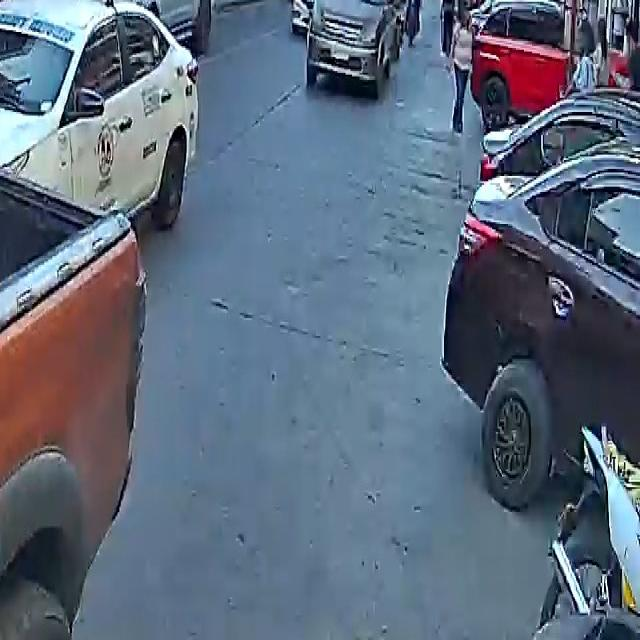car: (0, 0, 175, 638), (436, 138, 640, 522), (0, 0, 201, 228), (458, 0, 640, 128), (299, 0, 413, 94), (92, 0, 219, 53)
